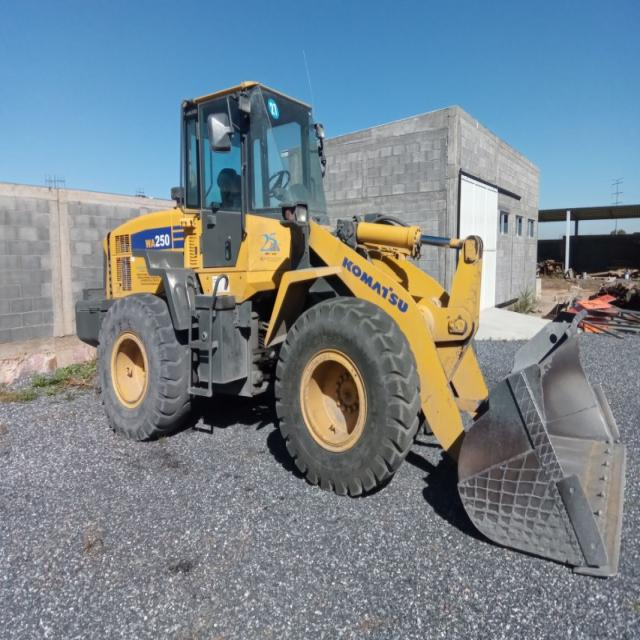buldozerpayloadergrader: (98, 78, 640, 580)
